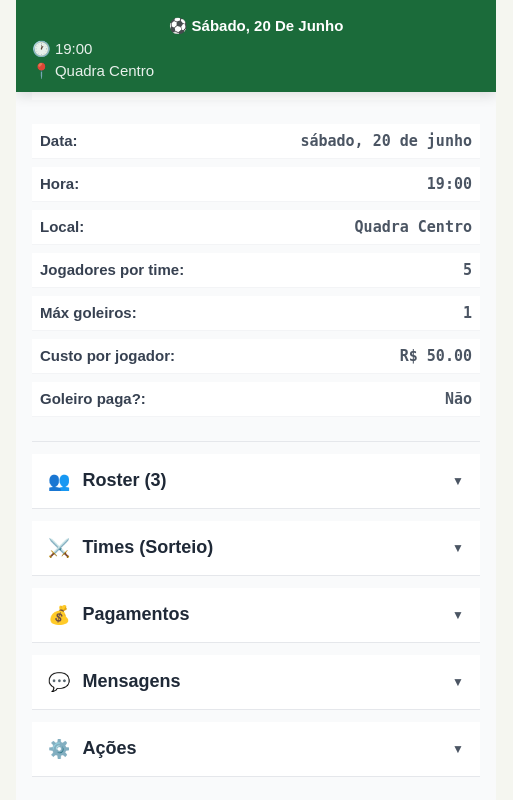
PeladaScreen › Actions accordion › delete button › shows Apagar button in accordion
The width and height of the screenshot is (513, 800).
(page scrolled)
Click the button "⚙️ Ações ▼".
click(109, 748)  # box [32,722,480,776]
(page scrolled)
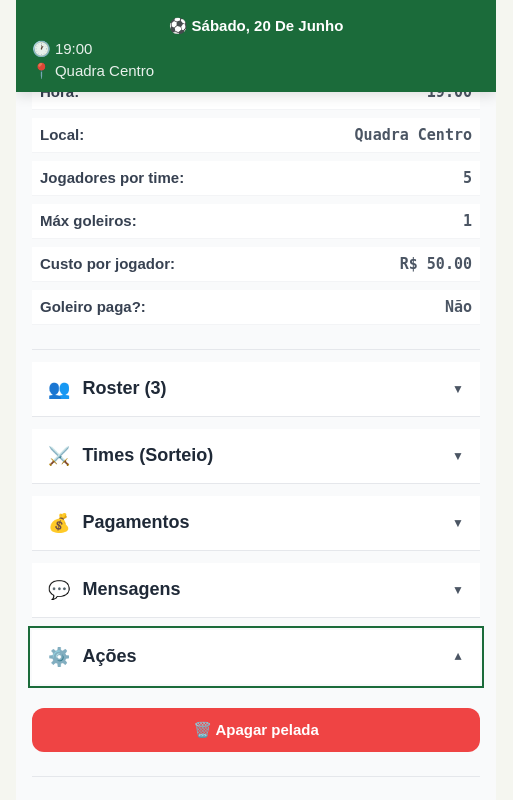
Check: the button "🗑️ Apagar pelada" is shown, box [32,708,480,752]
